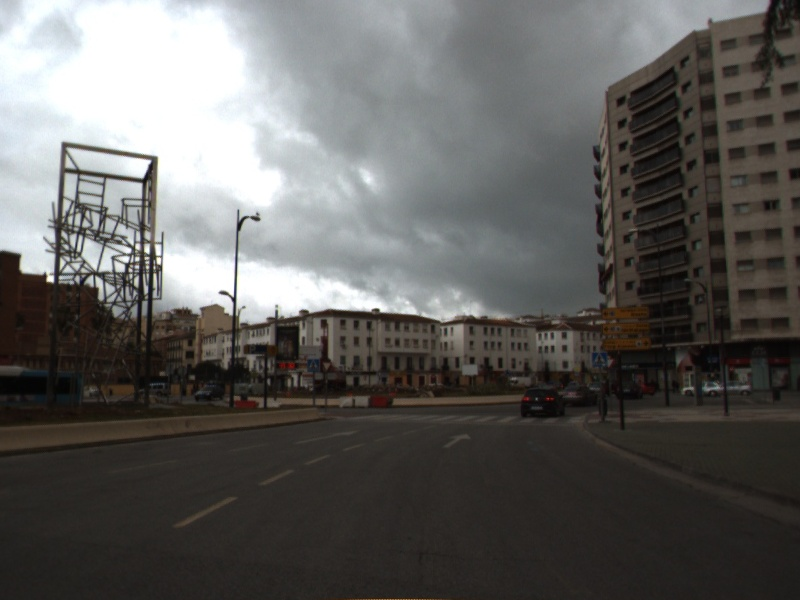STRAIGHT: (290, 428, 362, 447), (440, 431, 473, 450)
